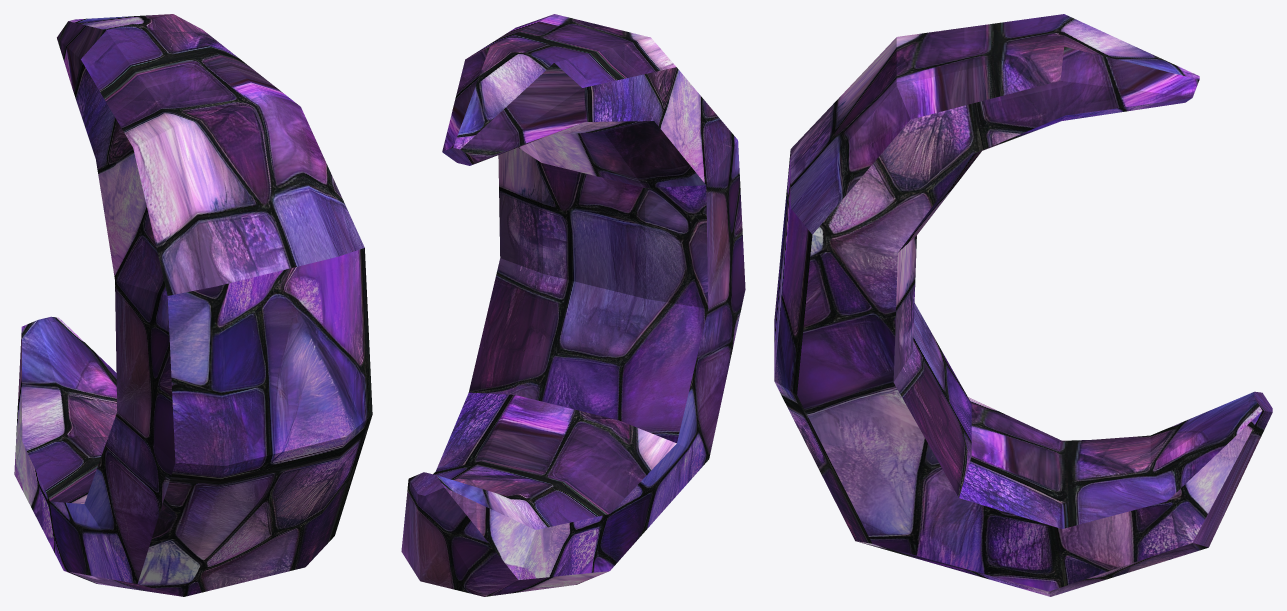
File: gemstone9Purple.glb
3 views of the same model, side by side, from view 1: azimuth 30°, elevation 25°; view 2: azimuth 150°, elevation 25°; view 3: azimuth 270°, elevation 25° (orthographic). The views are drawn at different scales.
Visible parts, largest first — view 1: gemstoneMoon; view 2: gemstoneMoon; view 3: gemstoneMoon.
Part boxes in pixels (<box>): gemstoneMoon: <box>14,14,372,596</box>; gemstoneMoon: <box>401,14,745,596</box>; gemstoneMoon: <box>774,14,1272,596</box>.
Size of the model in its own units: 0.5 by 1.2 by 1.
1 material, 1 textured.
